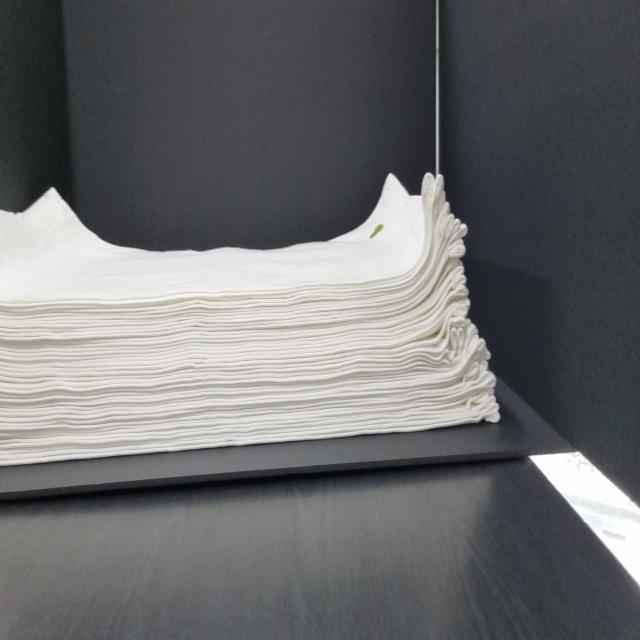not_50count_towel: (0, 166, 500, 466)
